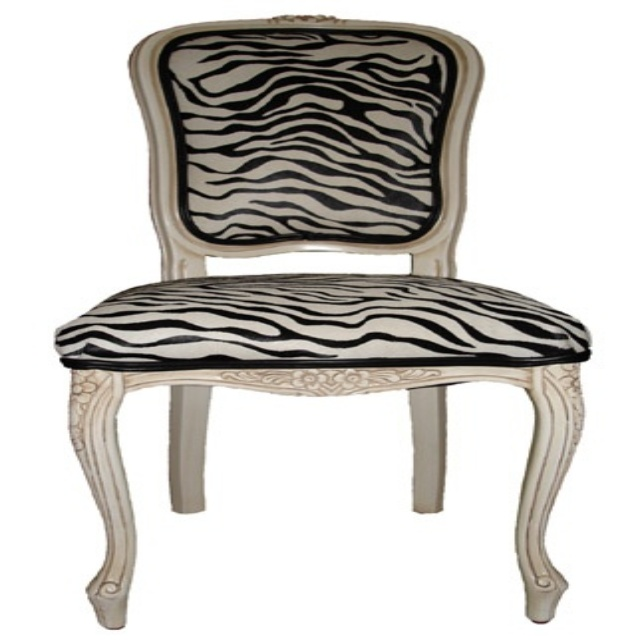obstacle: (56, 15, 588, 627)
